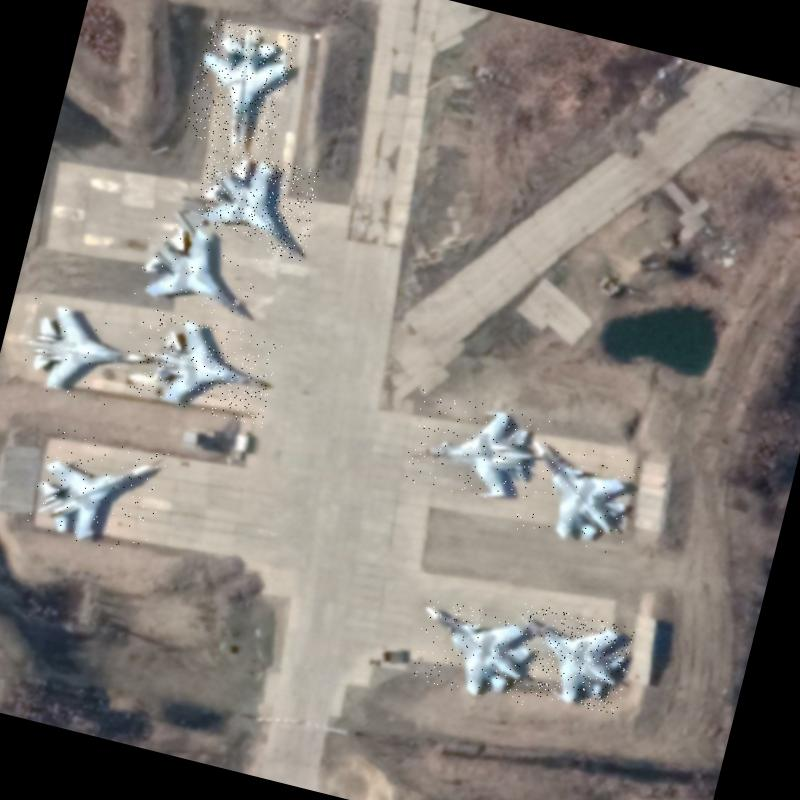A1: (25, 424, 170, 558), (400, 388, 552, 512), (131, 308, 283, 428), (14, 294, 162, 414), (182, 15, 300, 156), (189, 144, 325, 262), (501, 600, 638, 716), (133, 213, 268, 323)
A19: (509, 435, 643, 556), (406, 596, 542, 709)
